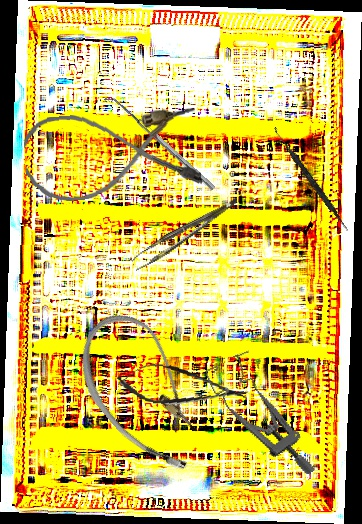Cannula: (56, 299, 234, 486), (21, 104, 203, 205)
Micro Scissor: (113, 358, 252, 415)
Spatula Surgical: (103, 92, 216, 195), (270, 127, 352, 232)
Speculum: (203, 344, 317, 496)
Tissue Forceps: (127, 198, 245, 271)
